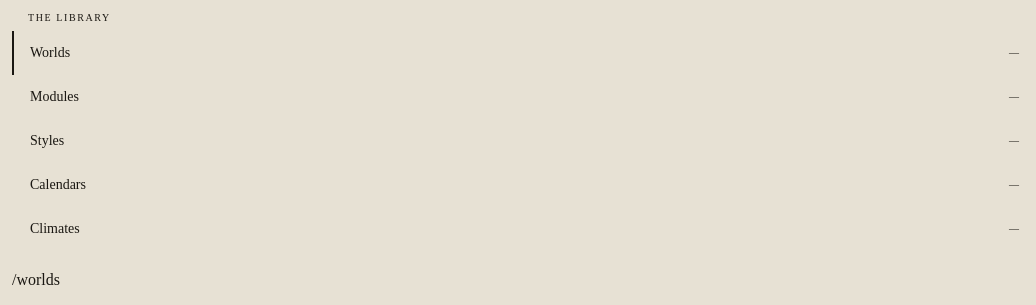
Test: switching section is one click, with no hub in between
Click the link "Modules —". click: point(54, 96)
box: [30,89,1020,104]
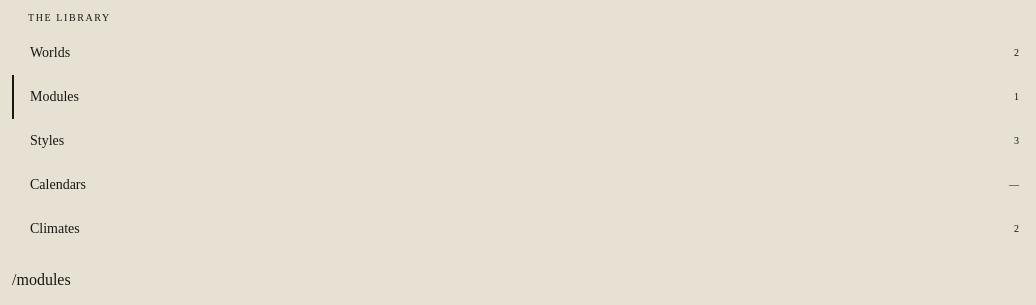
expect the text with test id "where" reads "/modules": met, box [12,271,71,288]
